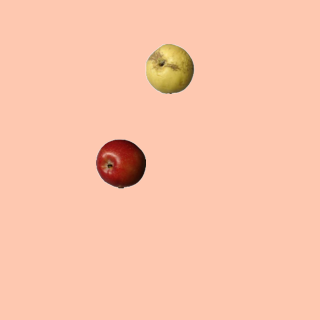Apple Braeburn: (95, 138, 145, 188)
Apple Golden 1: (144, 43, 194, 93)
